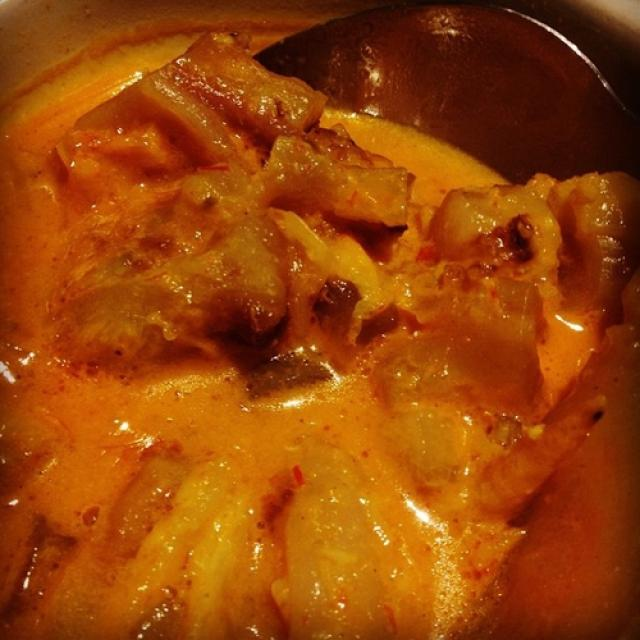熟制海鲜: (19, 23, 630, 621)
